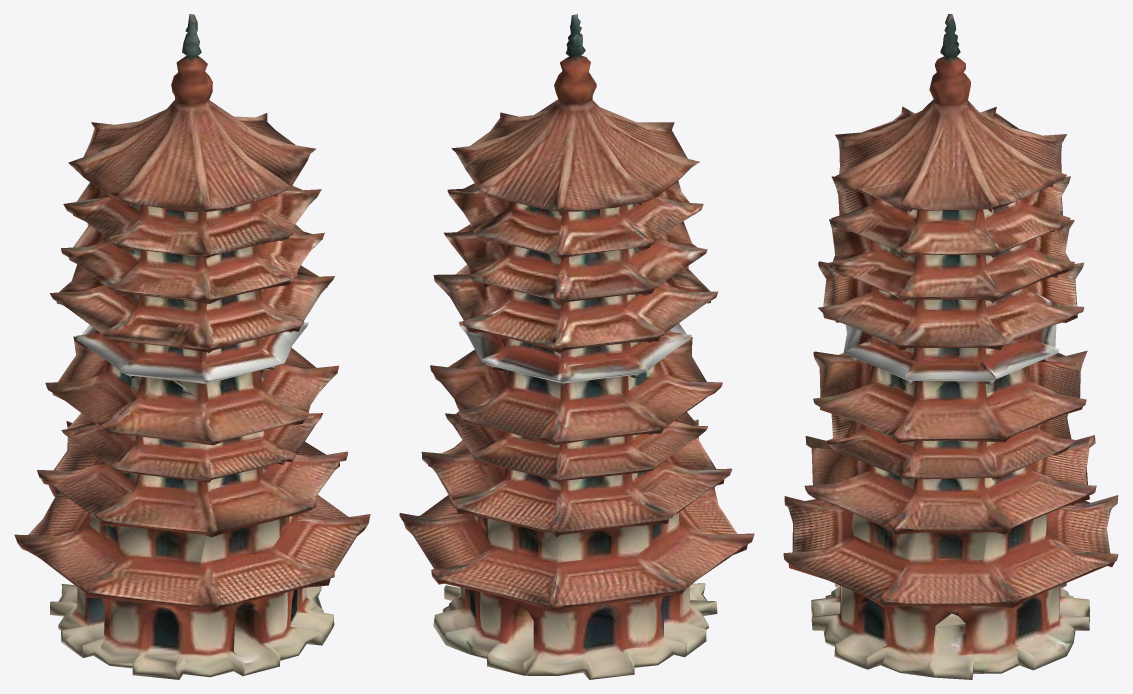
Rendered from pagoda.glb.
3 views of the same model, side by side, from view 1: azimuth 30°, elevation 25°; view 2: azimuth 150°, elevation 25°; view 3: azimuth 270°, elevation 25° (orthographic).
Bounding box in the file's own units: 0.946 × 1.89 × 0.9474.
Materials: 1 (1 with a texture image).
